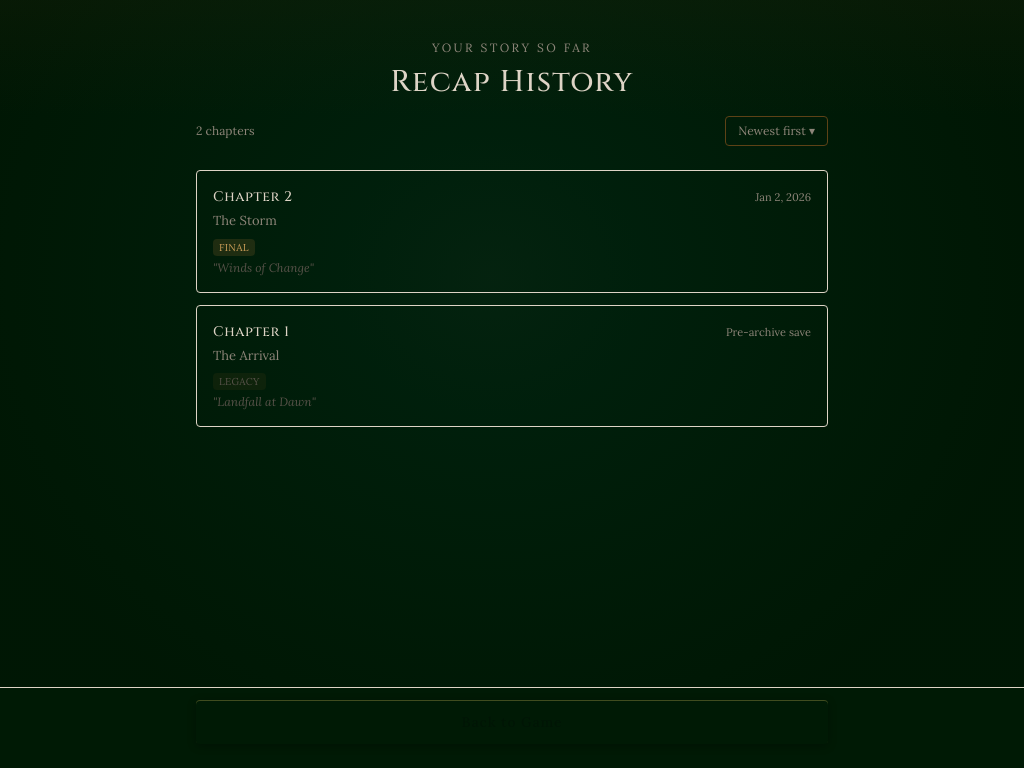
Test: RecapHistoryScreen › shows detail error when a recap fails to load
This screenshot has width=1024, height=768.
Step 1. Click the text "The Arrival" → click(246, 355), box [213,346,279,364]
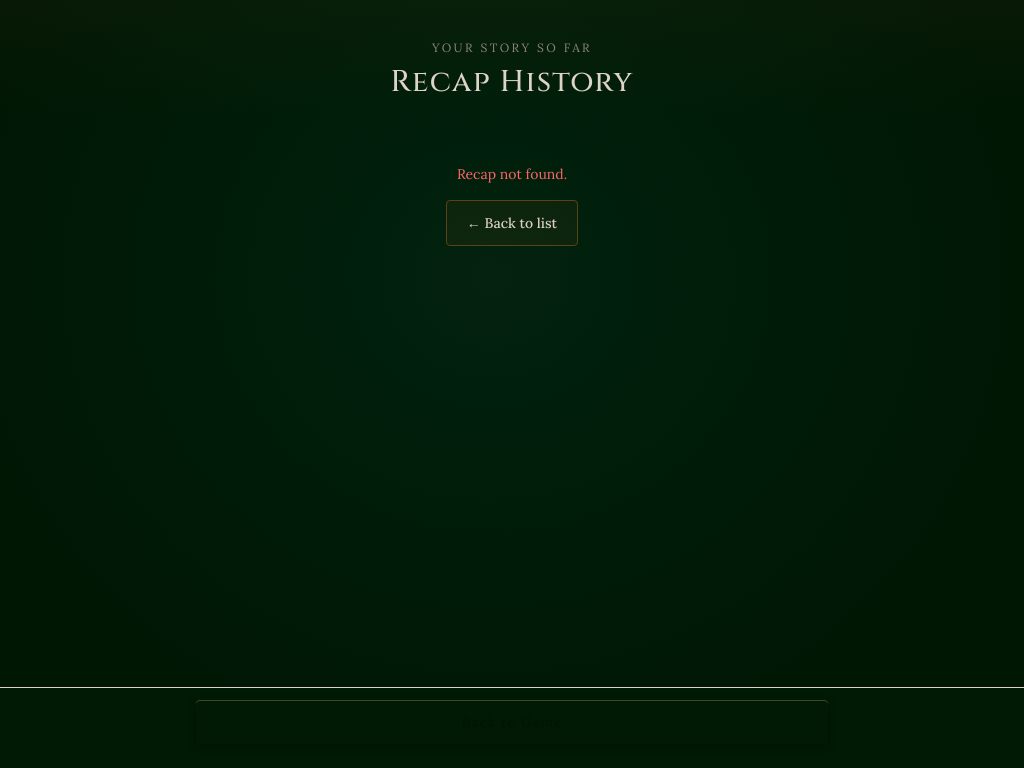
Now the text "Recap not found." is shown, box [457,165,567,183]
Now the button "← Back to list" is shown, box [446,200,578,246]
